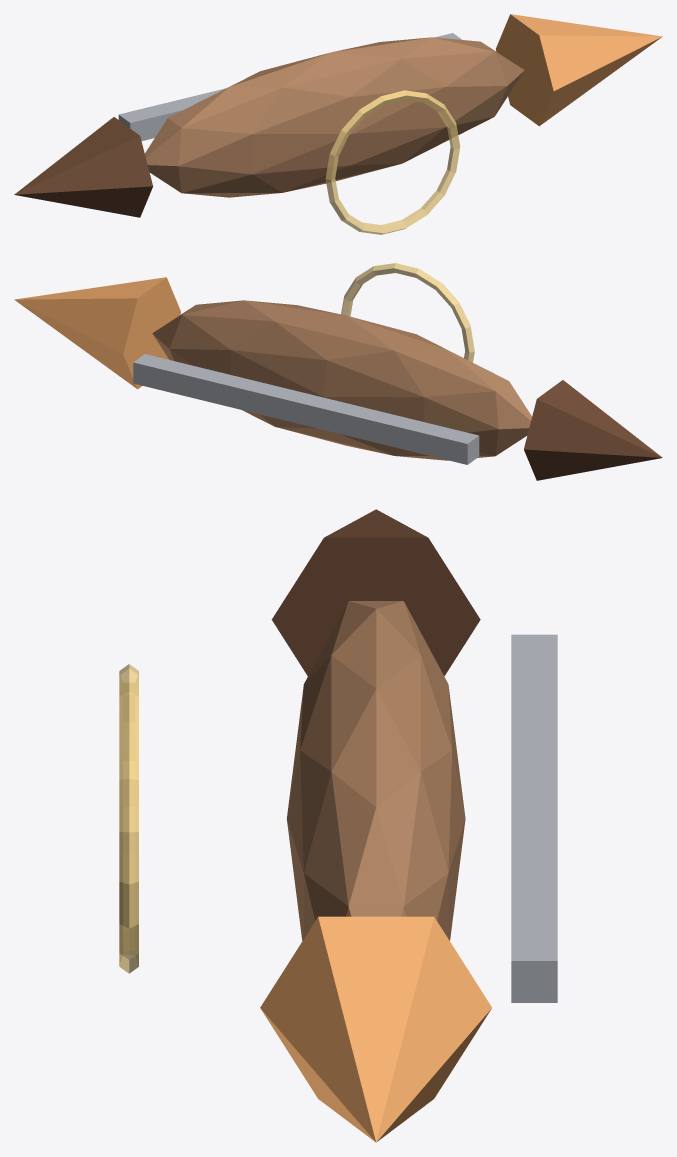
Rendered from 05_skyship_hull.glb.
3 views of the same model, one above another, from view 1: azimuth 30°, elevation 25°; view 2: azimuth 150°, elevation 25°; view 3: azimuth 270°, elevation 25° (orthographic). The views are drawn at different scales.
Parts seen in each view (by area): view 1: hull_low_poly, bow_upgrade, stern_fin, size_class_ring, keel_plate; view 2: hull_low_poly, keel_plate, bow_upgrade, stern_fin, size_class_ring; view 3: hull_low_poly, bow_upgrade, keel_plate, stern_fin, size_class_ring.
Part boxes in pixels (<box>): hull_low_poly: <box>145,37,524,197</box>; bow_upgrade: <box>496,14,662,126</box>; stern_fin: <box>14,117,153,217</box>; size_class_ring: <box>325,90,460,234</box>; keel_plate: <box>118,33,461,140</box>; hull_low_poly: <box>152,300,531,460</box>; keel_plate: <box>133,354,479,464</box>; bow_upgrade: <box>14,277,180,389</box>; stern_fin: <box>524,380,662,480</box>; size_class_ring: <box>341,263,474,362</box>; hull_low_poly: <box>287,601,465,940</box>; bow_upgrade: <box>260,916,491,1142</box>; keel_plate: <box>511,634,557,1002</box>; stern_fin: <box>271,509,480,675</box>; size_class_ring: <box>119,664,138,973</box>.
Size of the model in its own units: 2.84 by 0.5806 by 0.8308.
